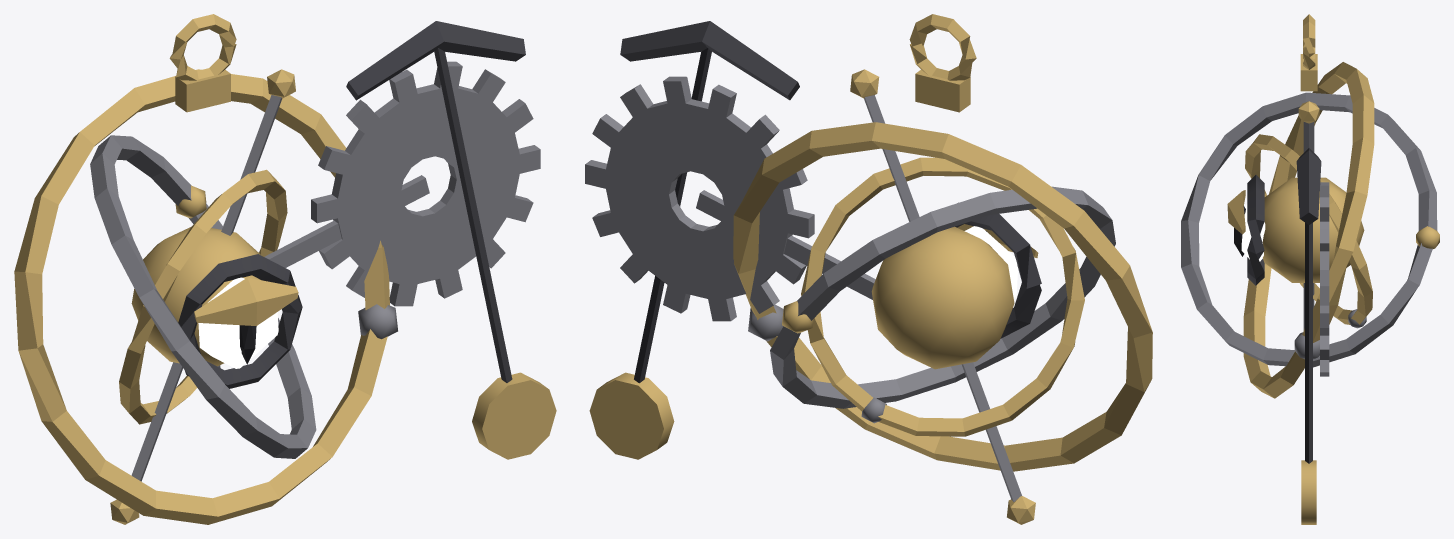
File: astrolabe-half-beat.glb
3 views of the same model, side by side, from view 1: azimuth 30°, elevation 25°; view 2: azimuth 150°, elevation 25°; view 3: azimuth 270°, elevation 25° (orthographic). The views are drawn at different scales.
Visible parts, largest first — view 1: astrolabe_half_beat; view 2: astrolabe_half_beat; view 3: astrolabe_half_beat.
Part boxes in pixels (x1=…): astrolabe_half_beat: x1=14, y1=14, x2=556, y2=524; astrolabe_half_beat: x1=585, y1=14, x2=1152, y2=524; astrolabe_half_beat: x1=1181, y1=14, x2=1439, y2=524.
Size of the model in its own units: 0.9544 by 0.8567 by 0.5178.
